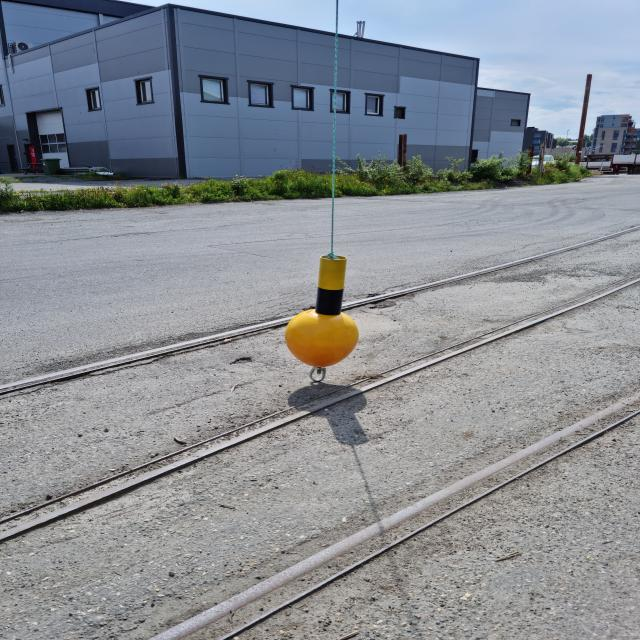west: (286, 256, 361, 367)
